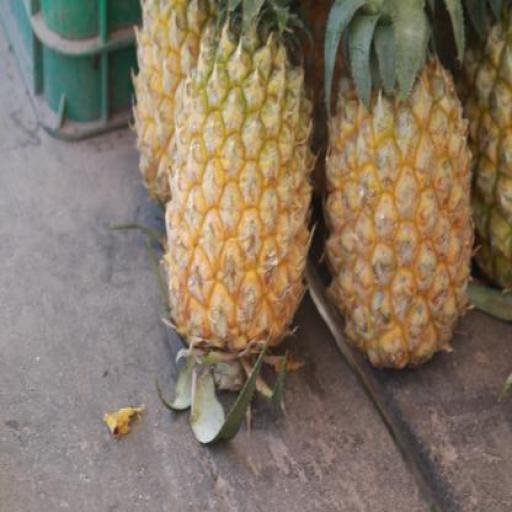Pineapple - v8 v1: (167, 25, 312, 349), (323, 69, 472, 370), (134, 0, 232, 203)
